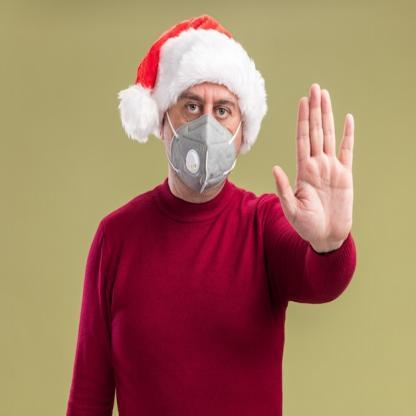stop: (274, 82, 358, 250)
